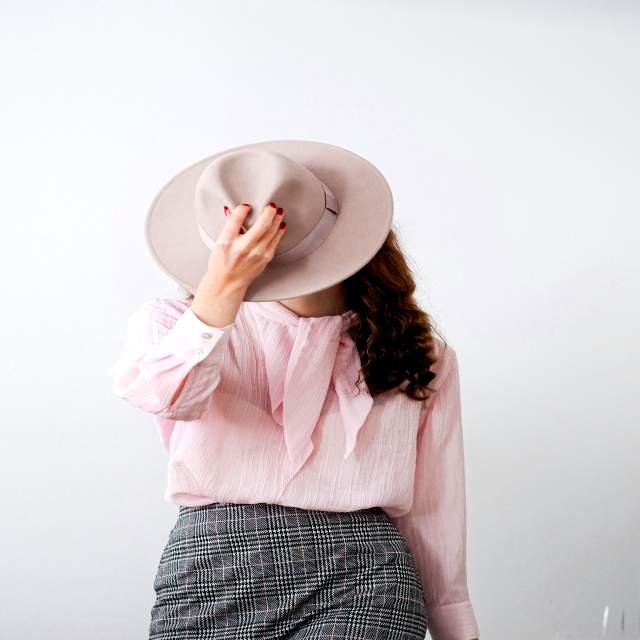no_hard_hat: (146, 140, 393, 301)
person: (119, 146, 482, 640)
